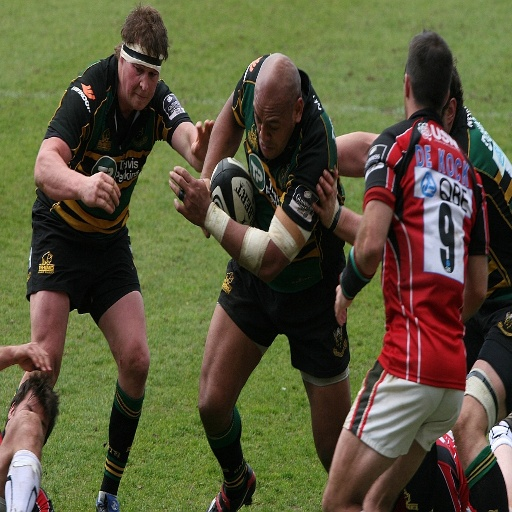hand: (168, 161, 213, 223), (80, 170, 120, 218), (311, 170, 337, 228), (14, 341, 52, 375), (190, 119, 216, 162), (335, 283, 353, 325), (199, 176, 210, 241)
